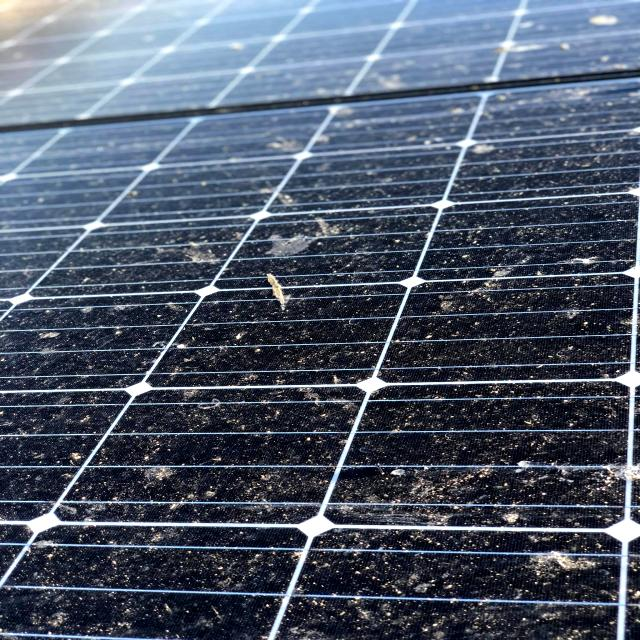bird: (425, 197, 541, 325), (227, 208, 365, 313), (491, 538, 608, 602), (107, 444, 192, 518), (245, 118, 361, 170)
